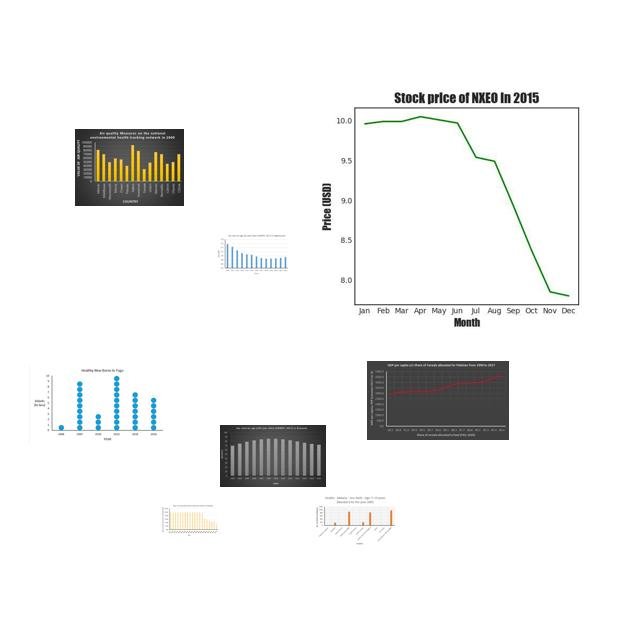Graph: (292, 77, 633, 333), (367, 361, 509, 440), (29, 365, 166, 445), (75, 129, 184, 206), (220, 425, 326, 487), (315, 495, 396, 545), (216, 233, 289, 276), (161, 504, 219, 537)
